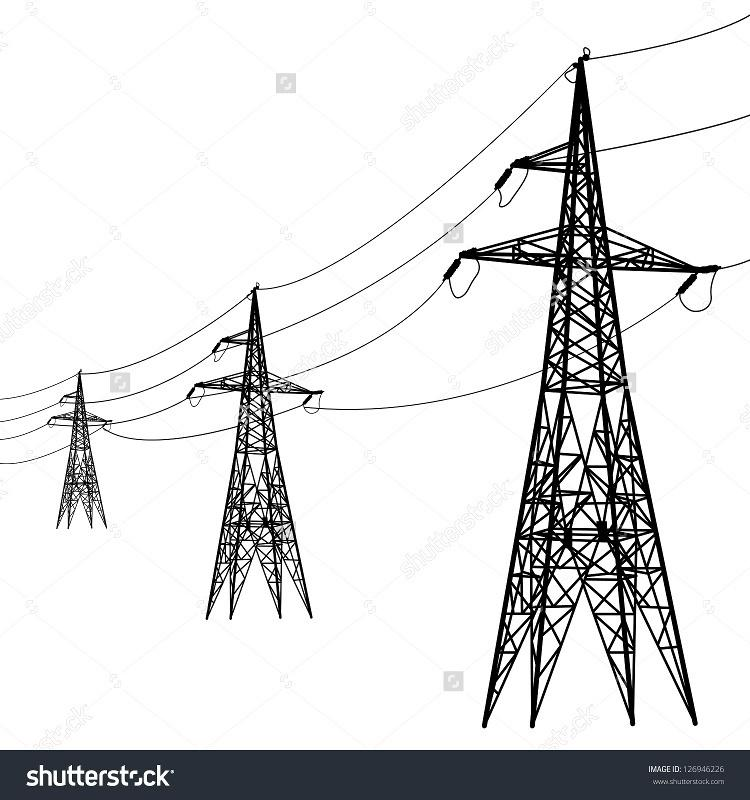power_tower: (486, 55, 709, 716), (183, 256, 343, 615), (40, 366, 131, 539)
